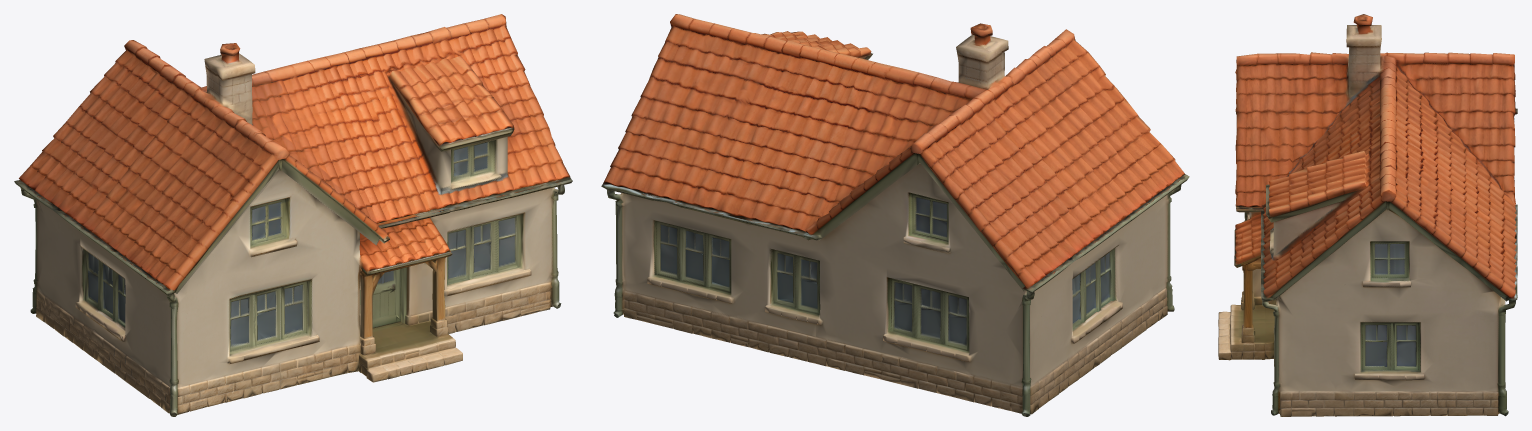
The model's file is house.fbx.
3 views of the same model, side by side, from view 1: azimuth 30°, elevation 25°; view 2: azimuth 150°, elevation 25°; view 3: azimuth 270°, elevation 25° (orthographic). The views are drawn at different scales.
Visible parts, largest first — view 1: tripo_node_606b7928; view 2: tripo_node_606b7928; view 3: tripo_node_606b7928.
Part boxes in pixels (bbox=[...]): tripo_node_606b7928: bbox=[14, 14, 572, 416]; tripo_node_606b7928: bbox=[601, 14, 1189, 416]; tripo_node_606b7928: bbox=[1218, 14, 1517, 416].
Bounding box in the file's own units: 0.9814 × 0.6552 × 0.653.
Materials: 1 (1 with a texture image).
